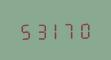five: (18, 20, 32, 40)
one: (48, 20, 62, 39)
seven: (63, 19, 77, 39)
three: (33, 20, 47, 40)
zero: (78, 19, 92, 39)
